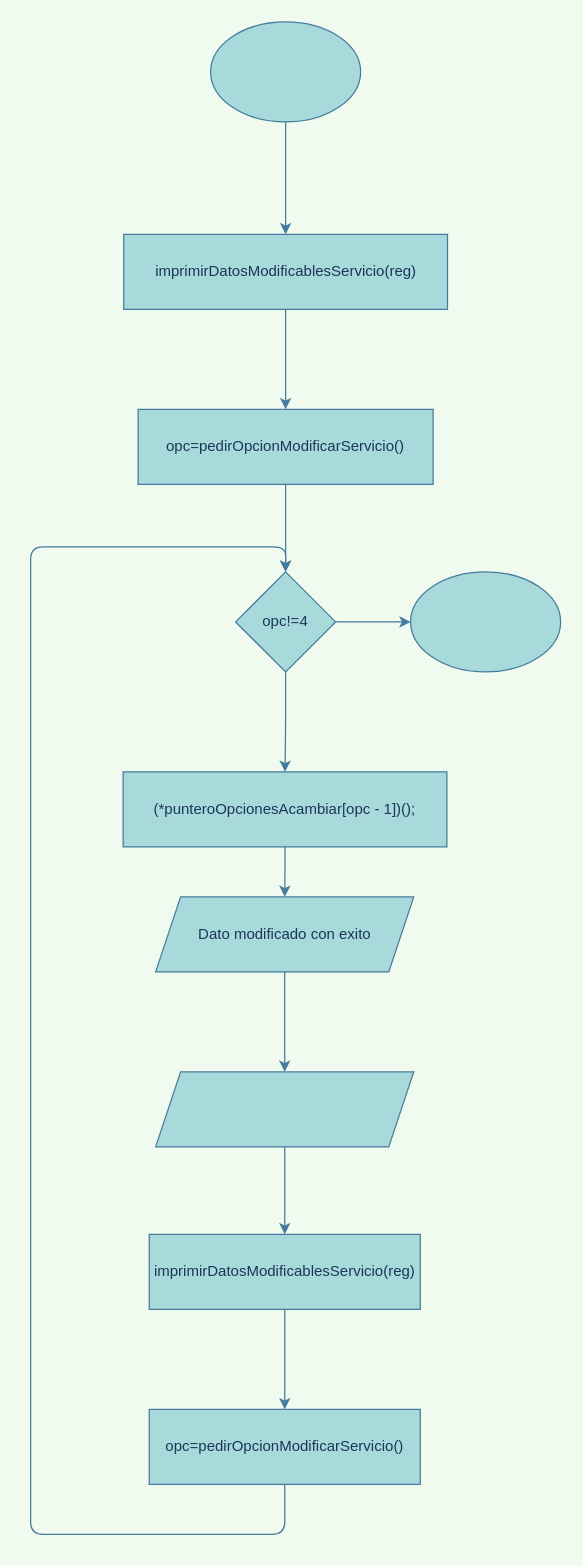
The diagram is 583 pixels wide and 1566 high, and some of its shapes have lost their labels. Here are the shapes that lost their labels. From the top down, the centre of each, then its label:
At [285,71]: "INICIO".
At [485,621]: "FIN".
At [284,1109]: "¿Preguntar si continuar?".
